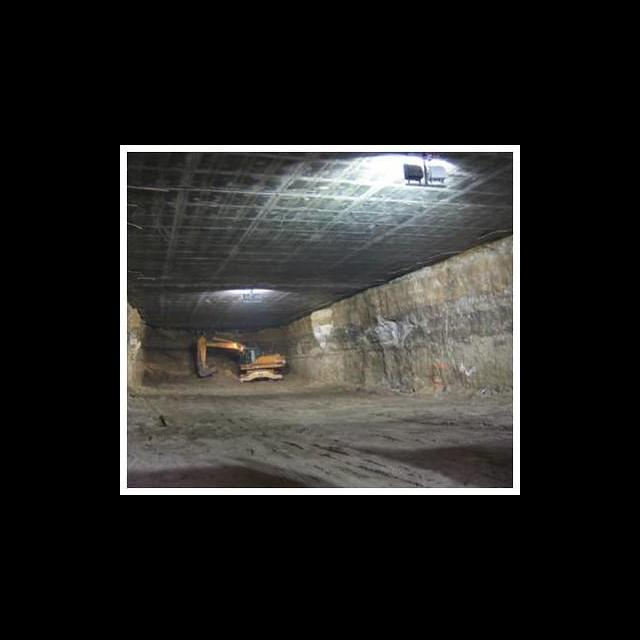Excavator: (196, 334, 288, 382)
